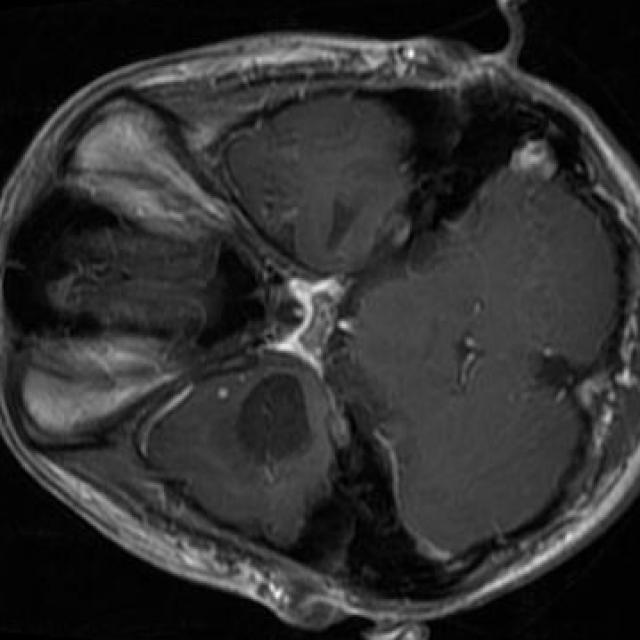glioma: (237, 374, 312, 465)
